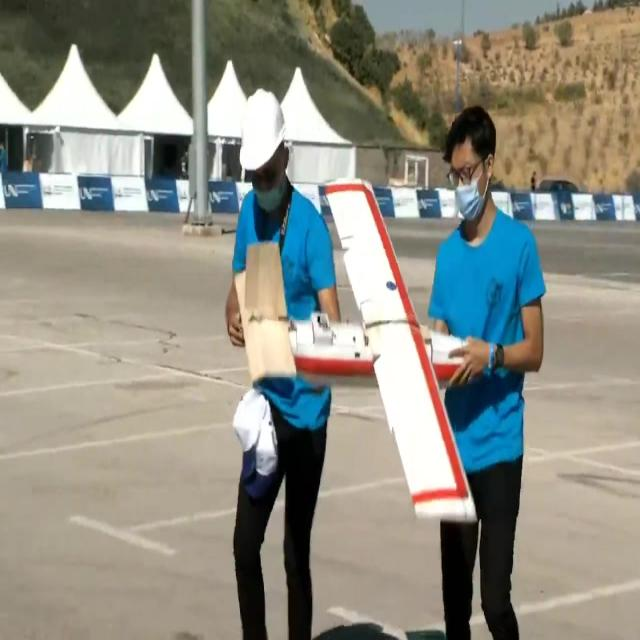iha: (233, 175, 480, 527)
